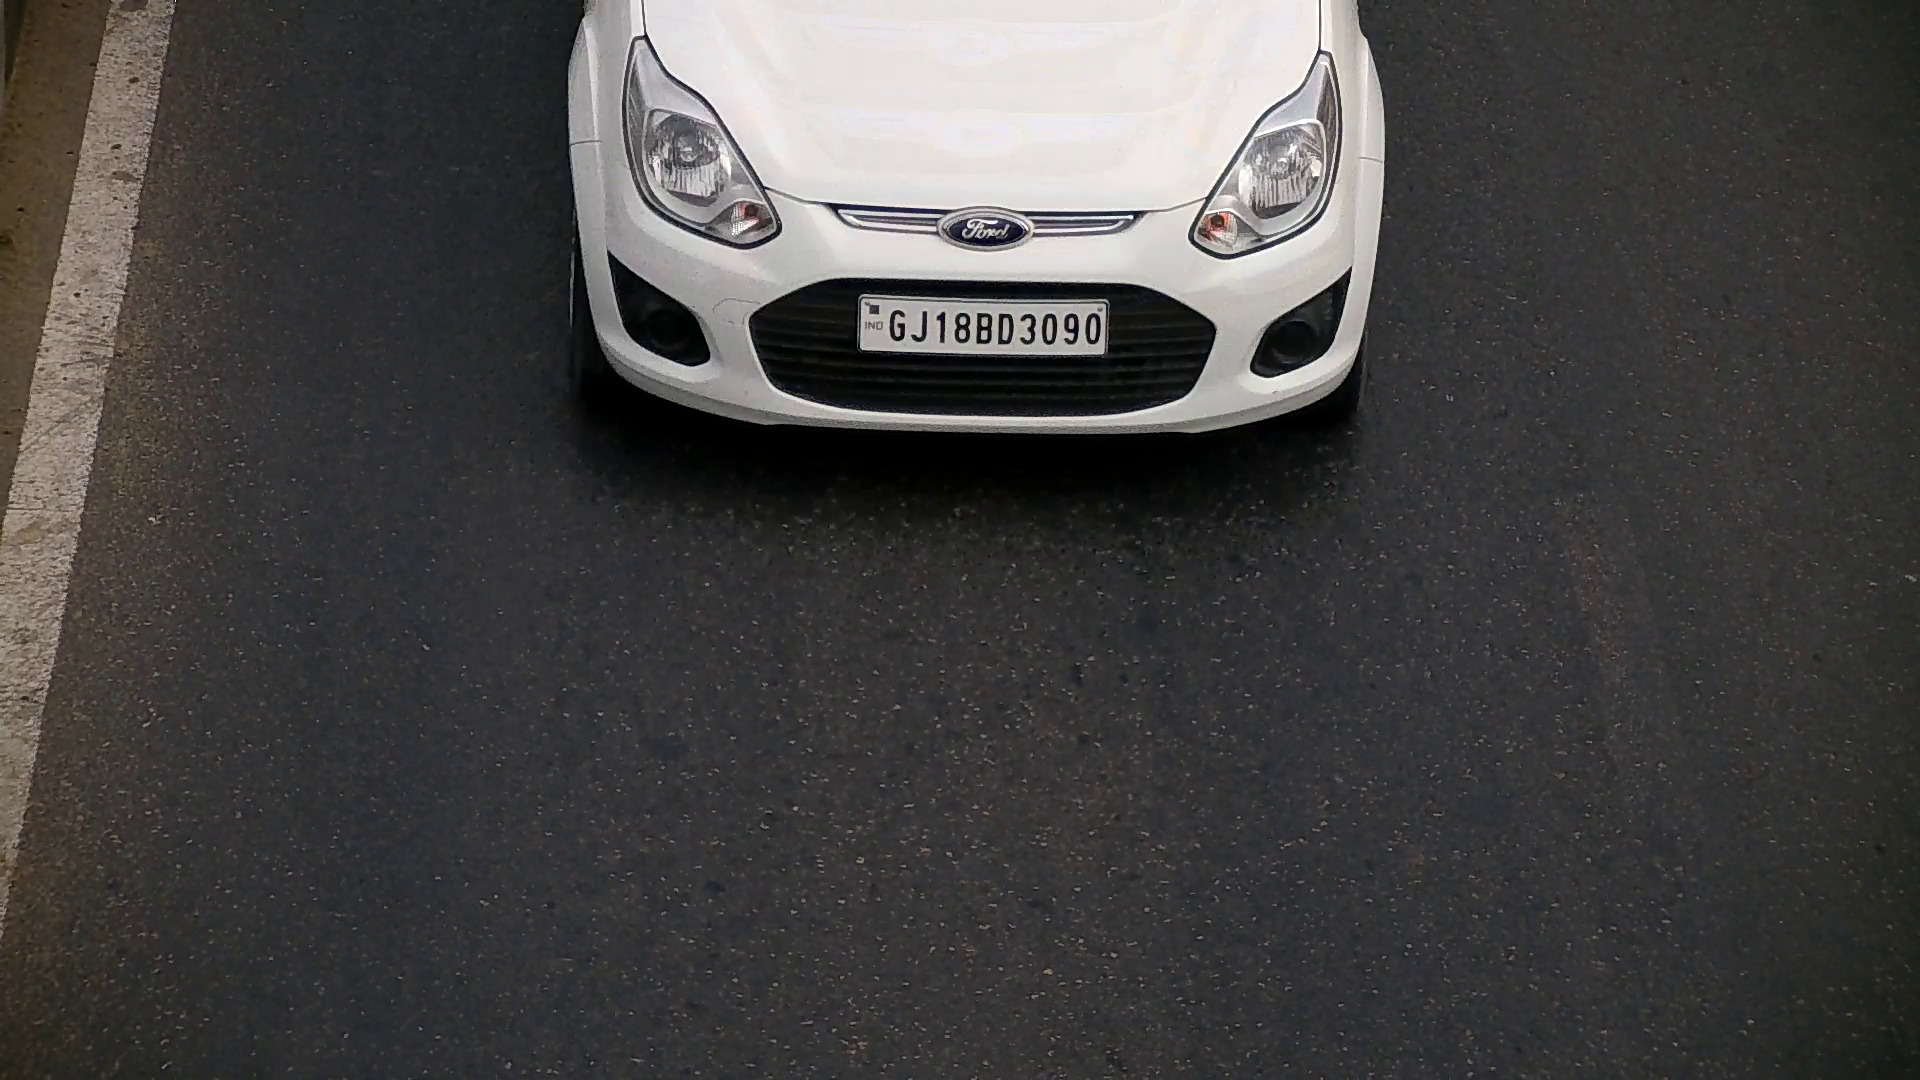numberplate: (851, 288, 1114, 356)
